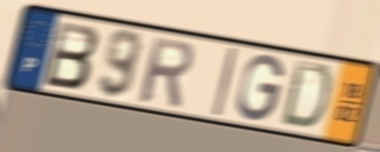9: (97, 26, 142, 102)
B: (41, 19, 101, 92)
D: (278, 57, 335, 132)
G: (234, 53, 287, 124)
I: (210, 45, 240, 120)
R: (137, 33, 196, 110)
